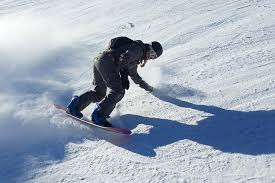snowboarder: (36, 21, 180, 148)
